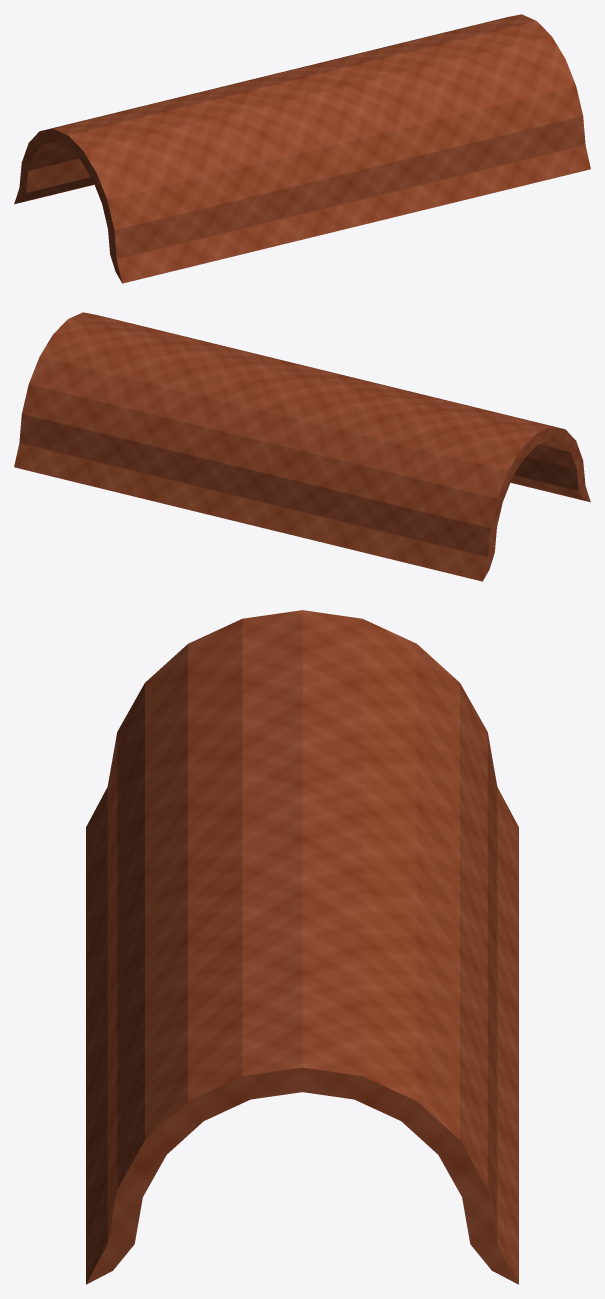
Rendered from MRP_Ridge_1m.fbx.
3 views of the same model, one above another, from view 1: azimuth 30°, elevation 25°; view 2: azimuth 150°, elevation 25°; view 3: azimuth 270°, elevation 25° (orthographic). The views are drawn at different scales.
Parts seen in each view (by area): view 1: Body; view 2: Body; view 3: Body.
Part boxes in pixels (x1,y1,x2,y2): Body: [14, 14, 590, 283]; Body: [14, 312, 590, 581]; Body: [86, 610, 518, 1284].
Size of the model in its own units: 1 by 0.2215 by 0.4.
